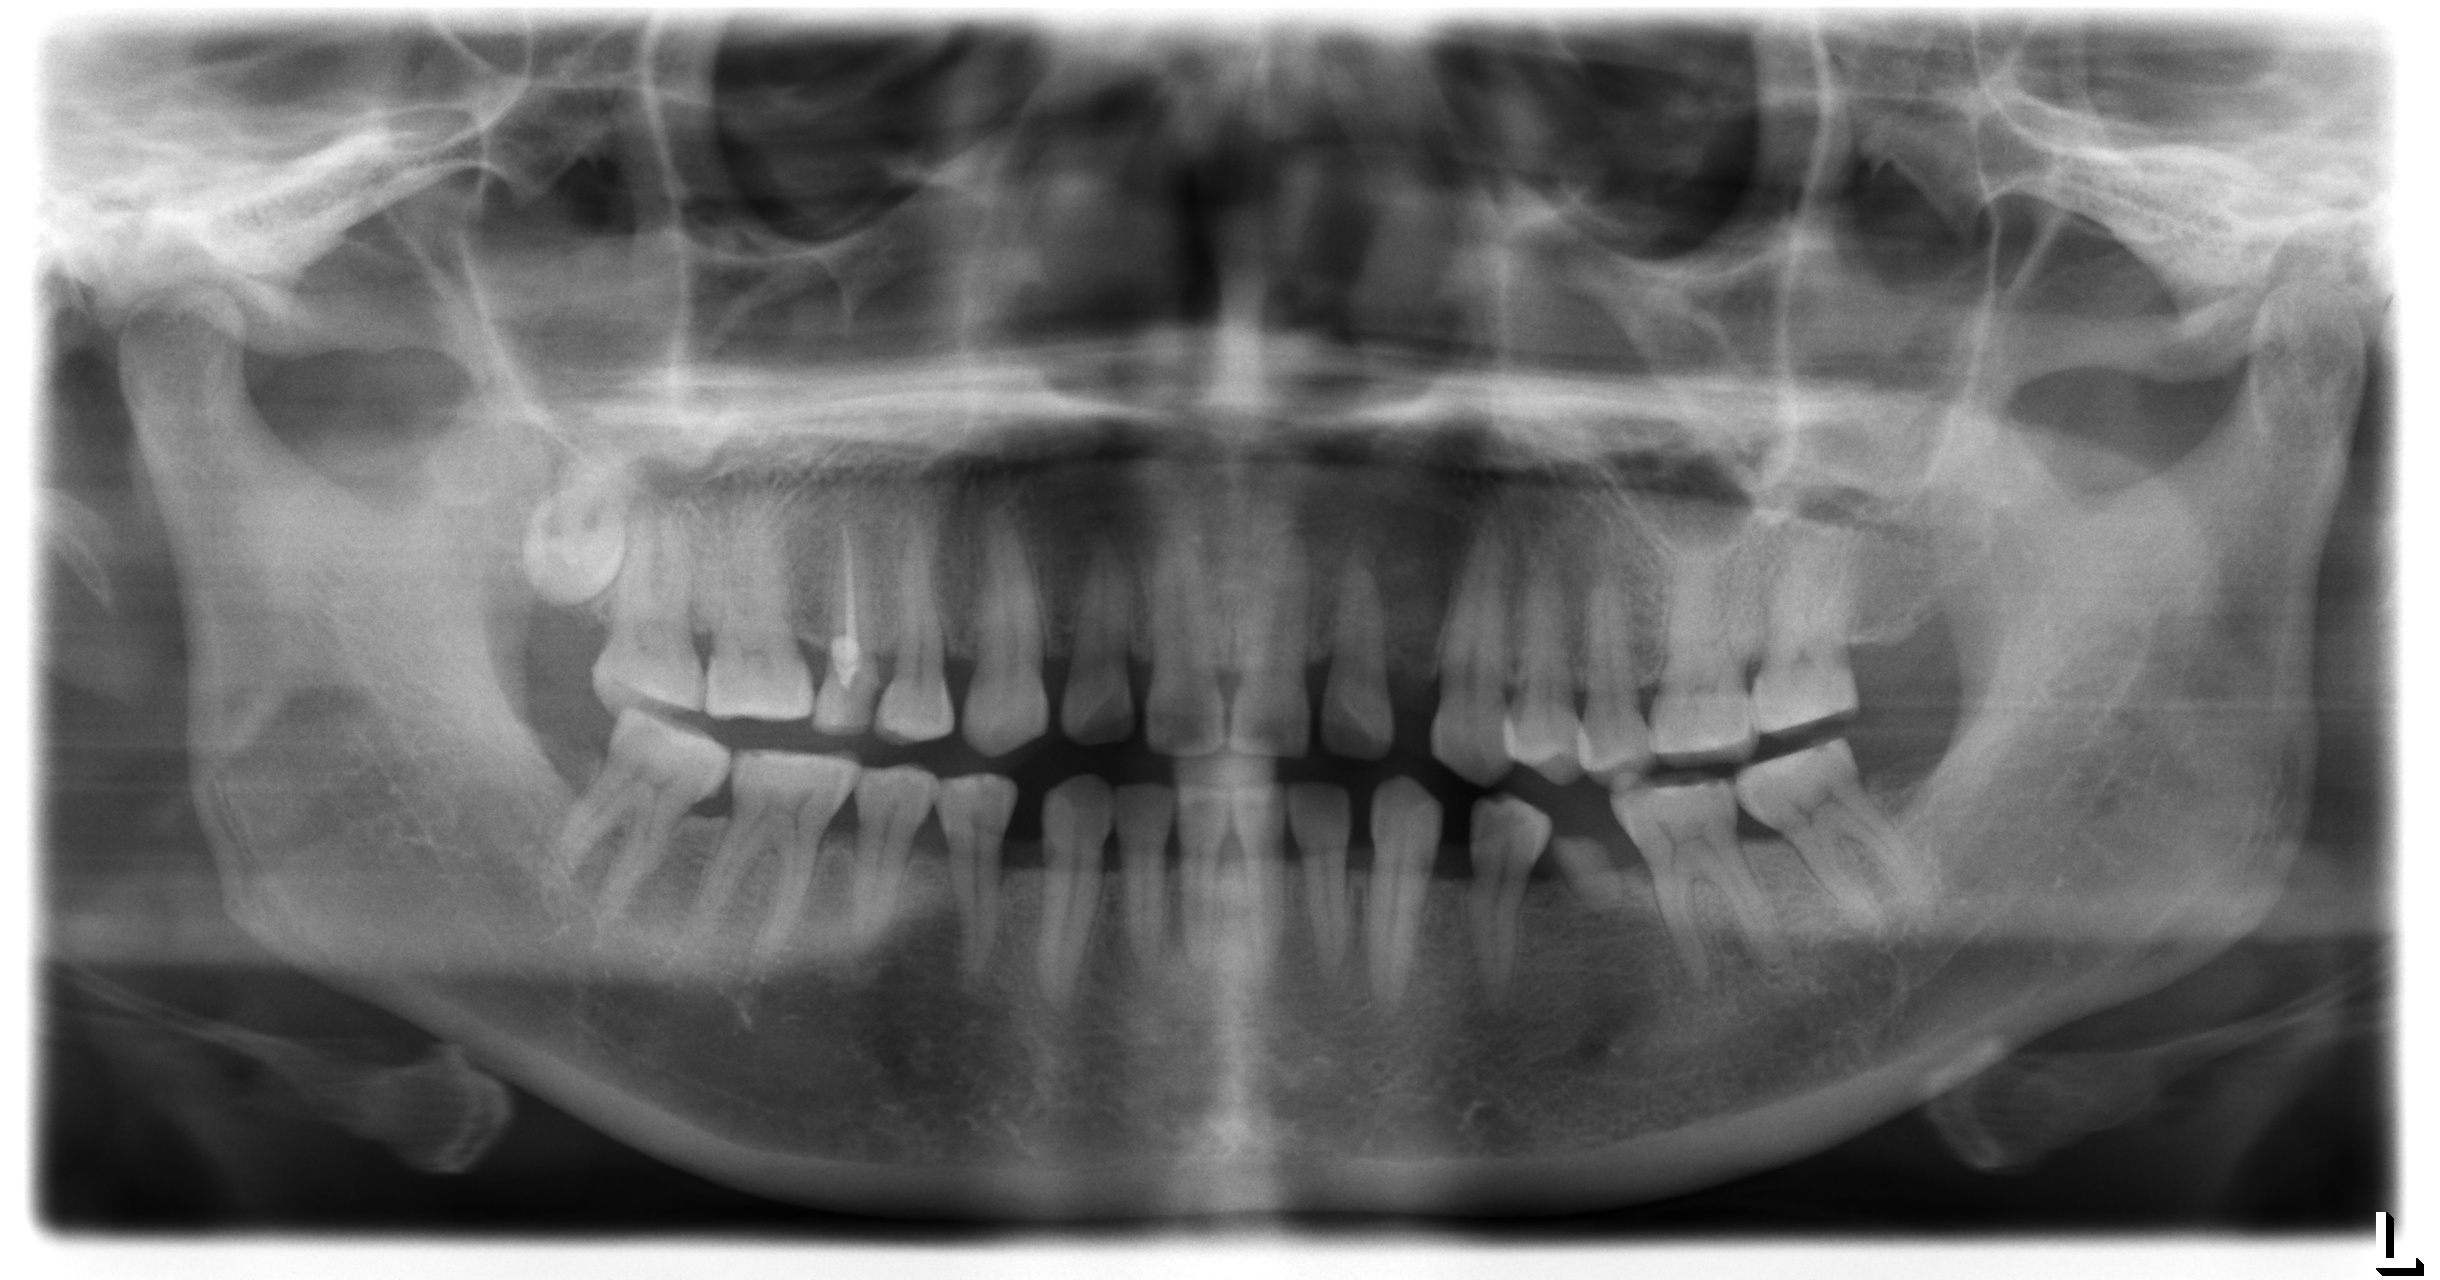Decay: (1544, 830, 1638, 920), (841, 670, 883, 736)
